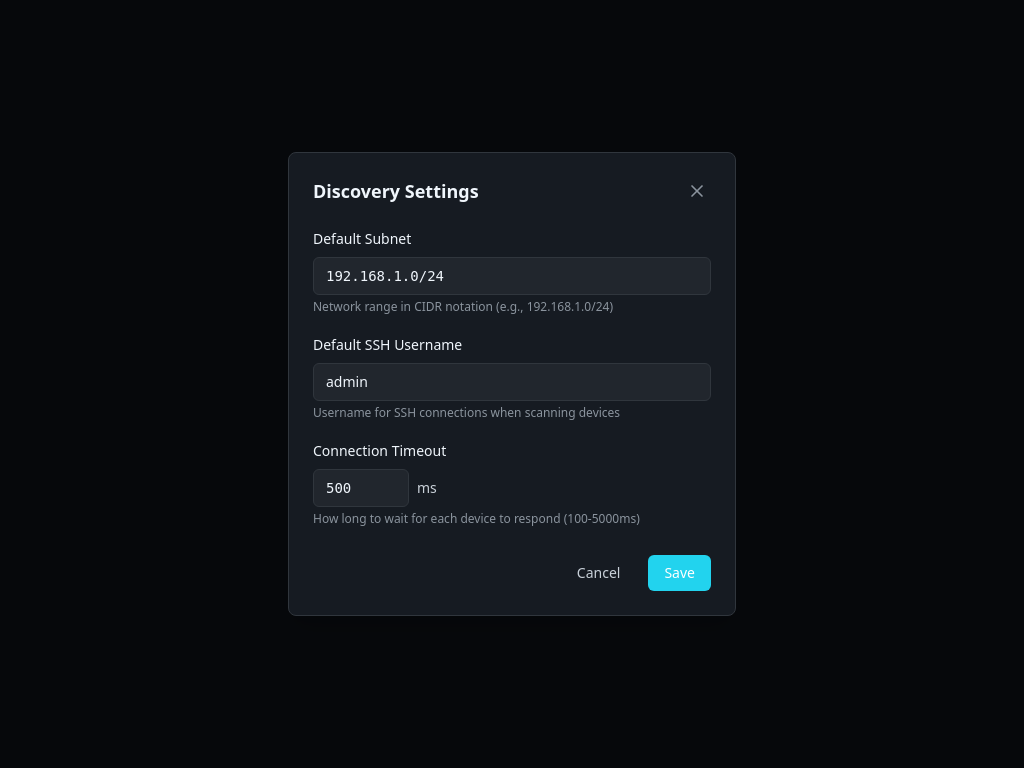
it: DiscoverySettingsModal › saving settings › shows "No changes to save" when nothing changed
Click the button with test id "save-settings-button" at (680, 573), box 648,555 -> 711,591
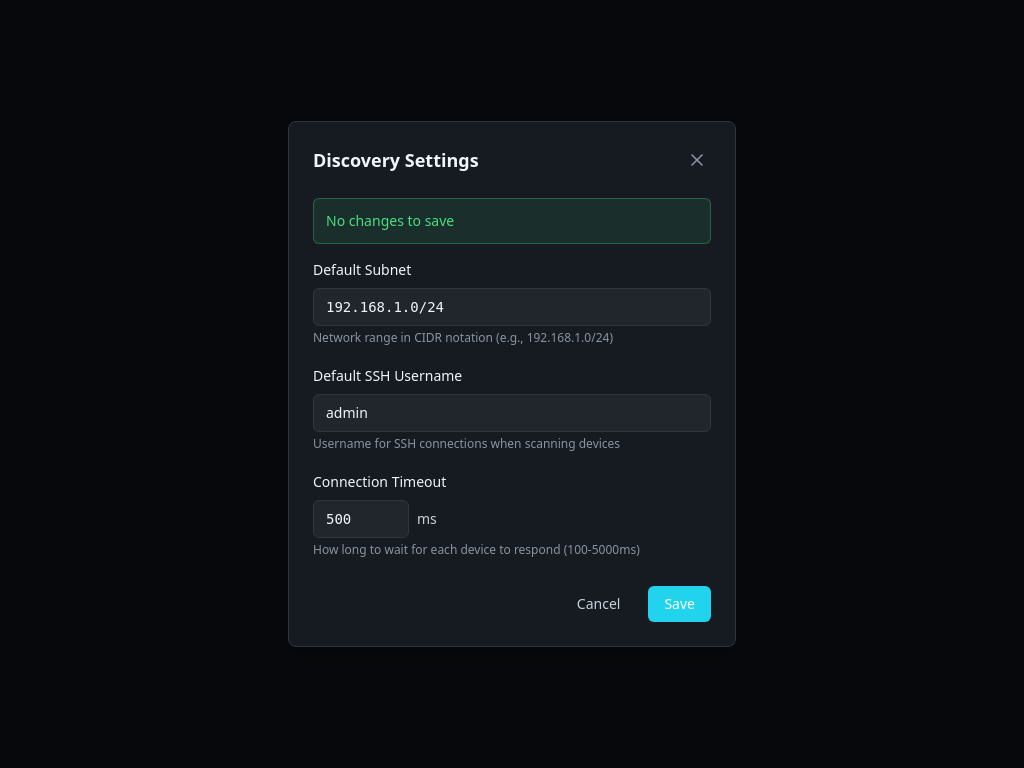
Check: the text "No changes to save" is shown, box 326,211 -> 454,230
